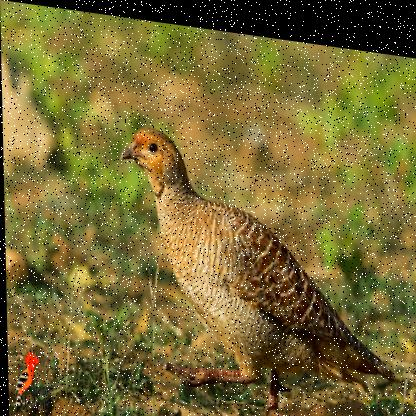Burung: (118, 118, 395, 415)
